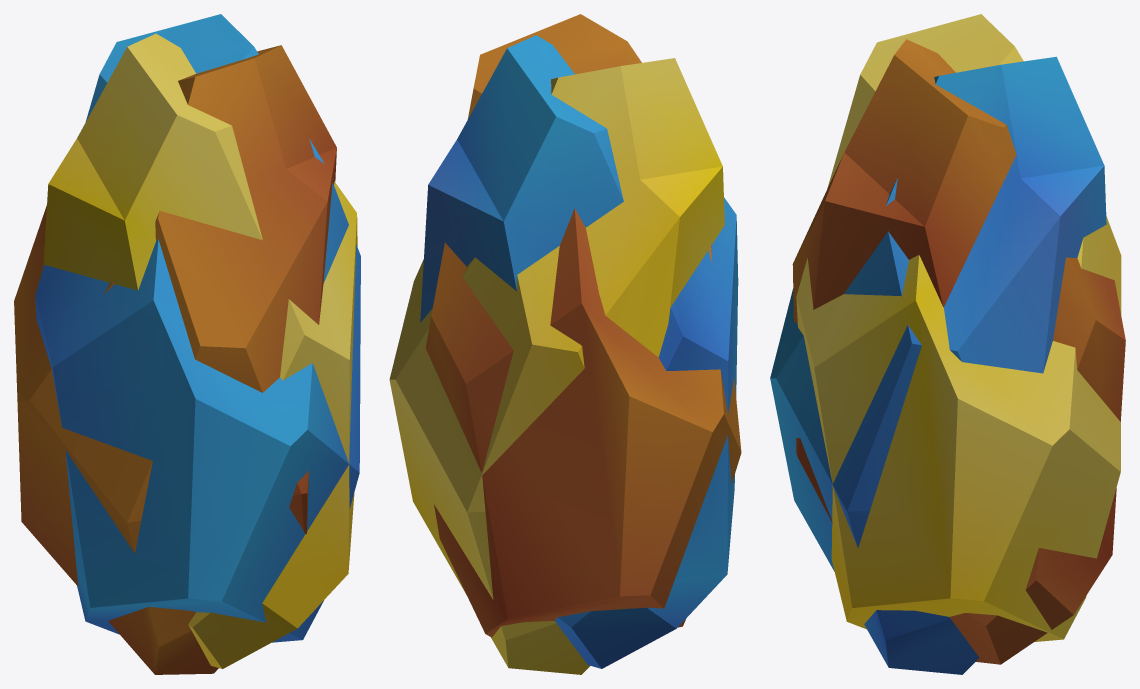
File: crystals.fbx
3 renders of one model, left to right at view 1: azimuth 30°, elevation 25°; view 2: azimuth 150°, elevation 25°; view 3: azimuth 270°, elevation 25°, orthographic.
Parts seen in each view (by area): view 1: Crystal_Water, Crystal_Fire, Crystal_Electricity; view 2: Crystal_Fire, Crystal_Electricity, Crystal_Water; view 3: Crystal_Electricity, Crystal_Water, Crystal_Fire.
Boxes of the visible parts, x1=… form: Crystal_Water: x1=35, y1=14, x2=360, y2=642; Crystal_Fire: x1=14, y1=45, x2=336, y2=674; Crystal_Electricity: x1=43, y1=33, x2=357, y2=668; Crystal_Fire: x1=425, y1=14, x2=741, y2=637; Crystal_Electricity: x1=389, y1=58, x2=724, y2=674; Crystal_Water: x1=420, y1=35, x2=738, y2=668; Crystal_Electricity: x1=796, y1=14, x2=1121, y2=641; Crystal_Water: x1=770, y1=56, x2=1106, y2=674; Crystal_Fire: x1=792, y1=39, x2=1125, y2=664.
Bounding box in the file's own units: 175 × 322 × 169.
